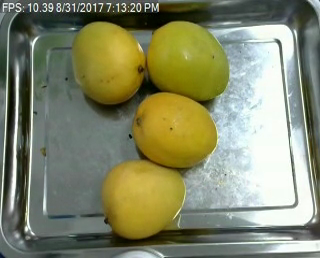Mango: (126, 88, 224, 168), (97, 156, 186, 240), (145, 20, 234, 102), (70, 20, 147, 105)
